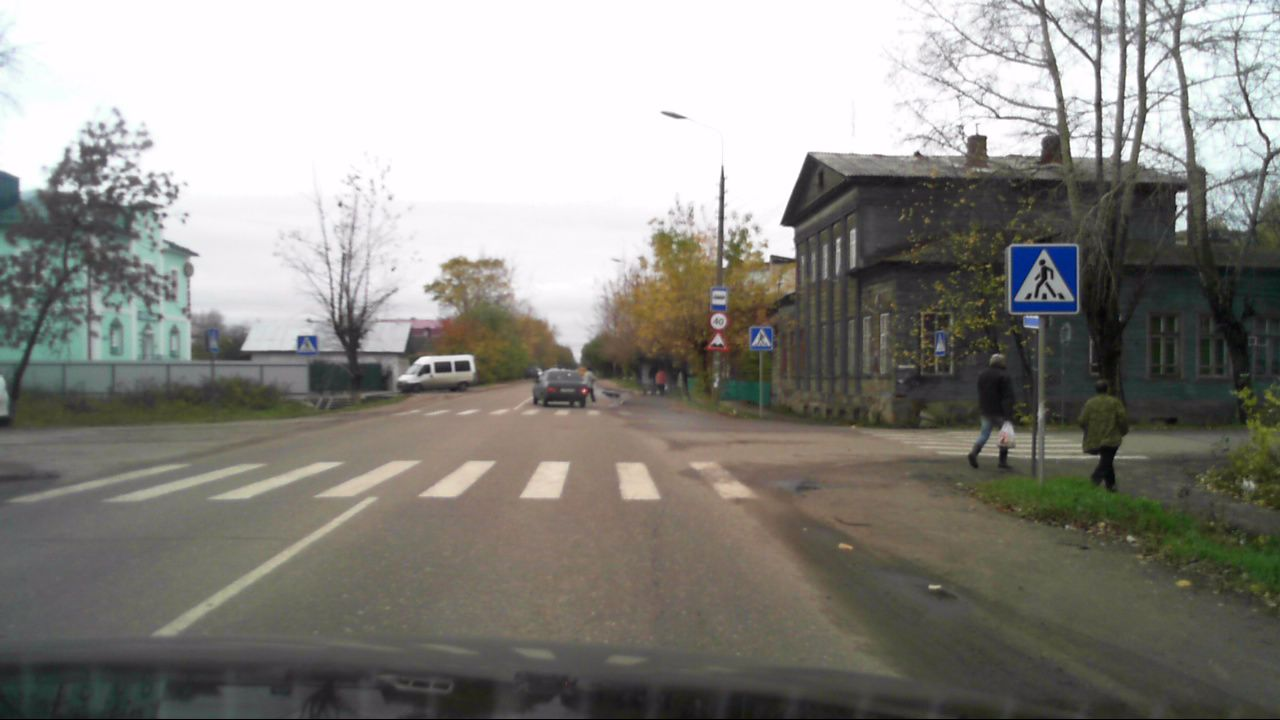speed_warning_40: (710, 312, 728, 330)
